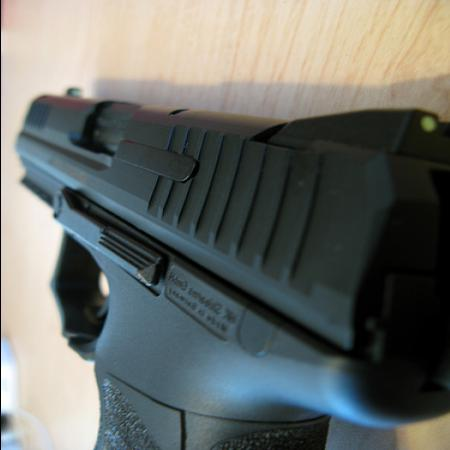Pistol: (15, 86, 446, 448)
